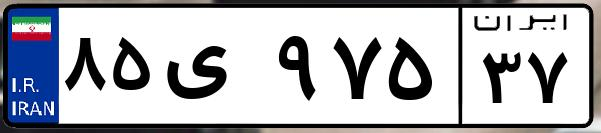3: (475, 38, 525, 113)
5: (385, 28, 445, 110), (110, 28, 158, 98)
7: (330, 28, 385, 110), (525, 38, 570, 115)
8: (57, 26, 110, 100)
9: (270, 28, 330, 110)
ی: (158, 20, 270, 120)
